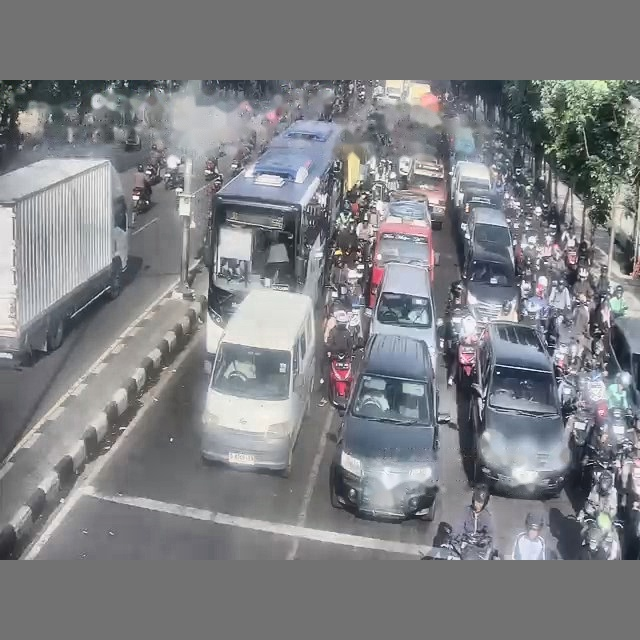Bis: (206, 120, 345, 360)
Mobil: (330, 335, 449, 520), (469, 321, 570, 495)
Motor: (422, 525, 499, 559), (328, 351, 353, 408), (132, 187, 150, 214)
Truk: (0, 158, 128, 367)
